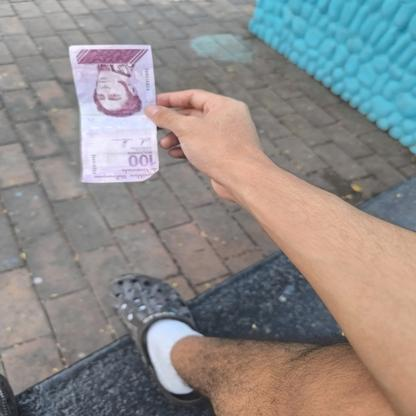vef_front: (68, 45, 159, 184)
